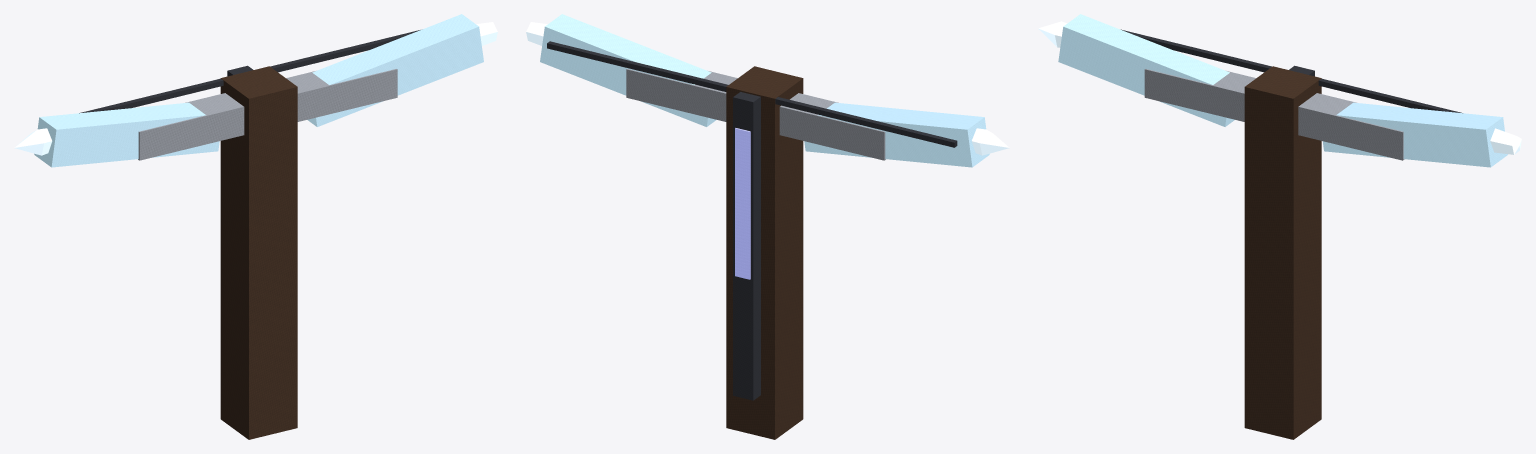
Rendered from crystal-weapon-crossbow.glb.
3 renders of one model, left to right at view 1: azimuth 30°, elevation 25°; view 2: azimuth 150°, elevation 25°; view 3: azimuth 330°, elevation 25°, orthographic.
Visible parts, largest first — view 1: stock, prod-core, right-limb, left-limb, bowstring, left-tip; view 2: stock, prod-core, stock-spine, right-limb, left-limb, bowstring, prism-track, left-tip; view 3: stock, prod-core, left-limb, right-limb, bowstring, right-tip.
Boxes of the visible parts, box(x1,y1,x2,y2) form: stock: box(220, 66, 297, 439); prod-core: box(138, 69, 397, 160); right-limb: box(307, 14, 483, 126); left-limb: box(34, 102, 219, 167); bowstring: box(79, 30, 420, 113); left-tip: box(14, 128, 52, 155); stock: box(726, 66, 803, 439); prod-core: box(626, 69, 885, 160); stock-spine: box(733, 92, 760, 400); right-limb: box(540, 14, 716, 126); left-limb: box(804, 102, 989, 167); bowstring: box(547, 41, 957, 147); prism-track: box(735, 128, 750, 279); left-tip: box(971, 128, 1009, 155); stock: box(1244, 66, 1321, 439); prod-core: box(1144, 68, 1404, 160); left-limb: box(1058, 14, 1234, 126); right-limb: box(1322, 102, 1507, 167); bowstring: box(1121, 29, 1462, 113); right-tip: box(1490, 128, 1521, 154).
Bounding box in the file's own units: 1.33 × 0.9281 × 0.1744.
Materials: 7 (7 with a texture image).
